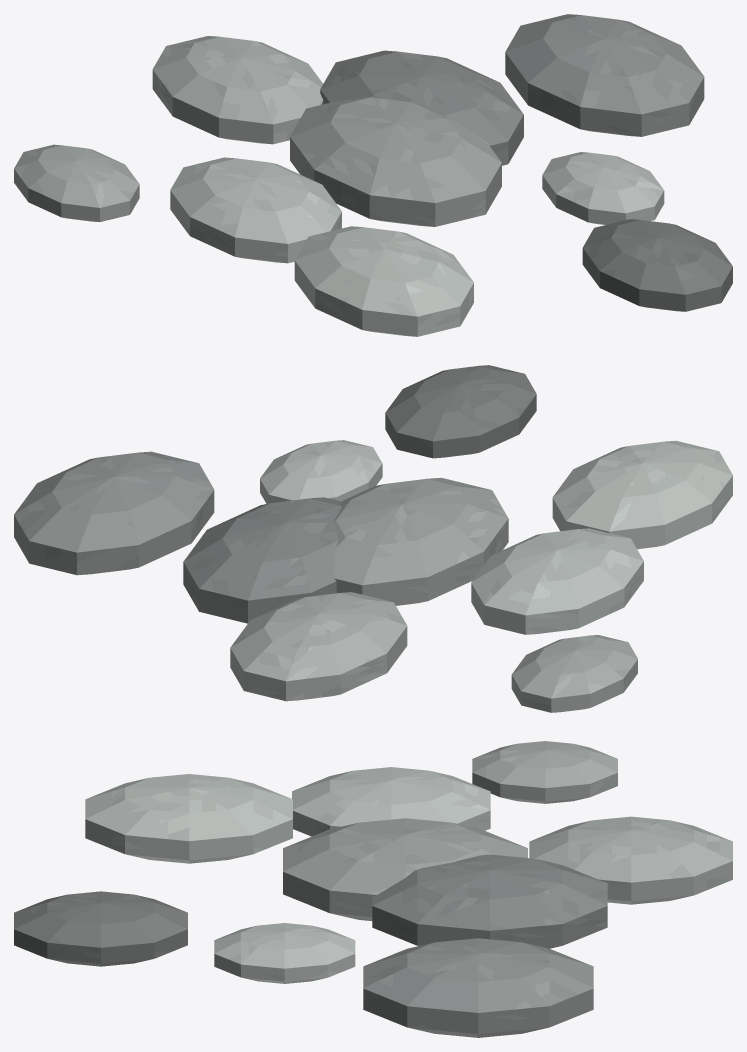
File: seed_cabbage.glb
3 views of the same model, one above another, from view 1: azimuth 30°, elevation 25°; view 2: azimuth 150°, elevation 25°; view 3: azimuth 270°, elevation 25° (orthographic). The views are drawn at different scales.
Visible parts, largest first — view 1: block_grain 0, block_grain 6, block_grain 5, block_grain 4, block_grain 2, block_grain 8, block_grain 1, block_grain 7, block_grain 3; view 2: block_grain 6, block_grain 0, block_grain 4, block_grain 1, block_grain 5, block_grain 2, block_grain 8, block_grain 7, block_grain 3; view 3: block_grain 6, block_grain 1, block_grain 5, block_grain 0, block_grain 4, block_grain 8, block_grain 2, block_grain 7, block_grain 3.
Boxes of the visible parts, x1,y1,x2,y2 form: block_grain 0: (290,97,501,226); block_grain 6: (505,14,704,136); block_grain 5: (294,226,473,336); block_grain 4: (152,36,323,144); block_grain 2: (170,157,341,263); block_grain 8: (582,219,732,311); block_grain 1: (320,50,523,165); block_grain 7: (14,144,139,221); block_grain 3: (542,152,664,224); block_grain 6: (14,451,214,575); block_grain 0: (333,477,508,605); block_grain 4: (230,592,407,701); block_grain 1: (183,497,341,623); block_grain 5: (552,440,732,549); block_grain 2: (471,528,643,634); block_grain 8: (385,365,536,458); block_grain 7: (511,635,637,712); block_grain 3: (260,440,382,503); block_grain 6: (363,938,593,1037); block_grain 1: (372,854,607,948); block_grain 5: (85,774,292,863); block_grain 0: (283,818,527,920); block_grain 4: (529,816,732,904); block_grain 8: (14,891,187,966); block_grain 2: (292,767,490,836); block_grain 7: (472,741,617,803); block_grain 3: (214,923,355,983).
Bounding box in the file's own units: 0.0208 × 0.00248 × 0.022.
Materials: 1 (1 with a texture image).
